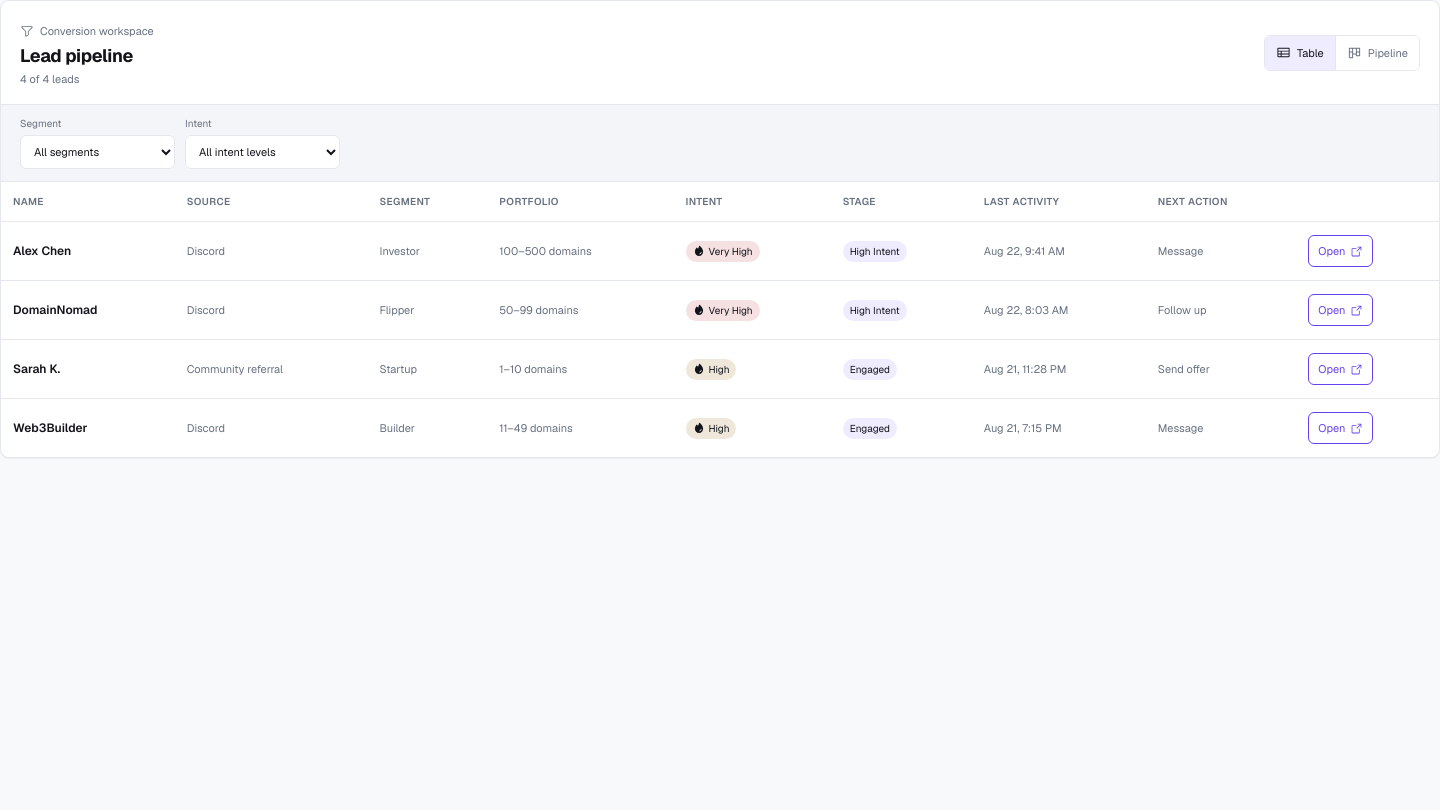
Test: completes Alex Chen follow-up and creates an attributed registration link
Click the button with aria-label "Open Alex Chen".
click(1341, 251)  # box [1308, 235, 1373, 267]
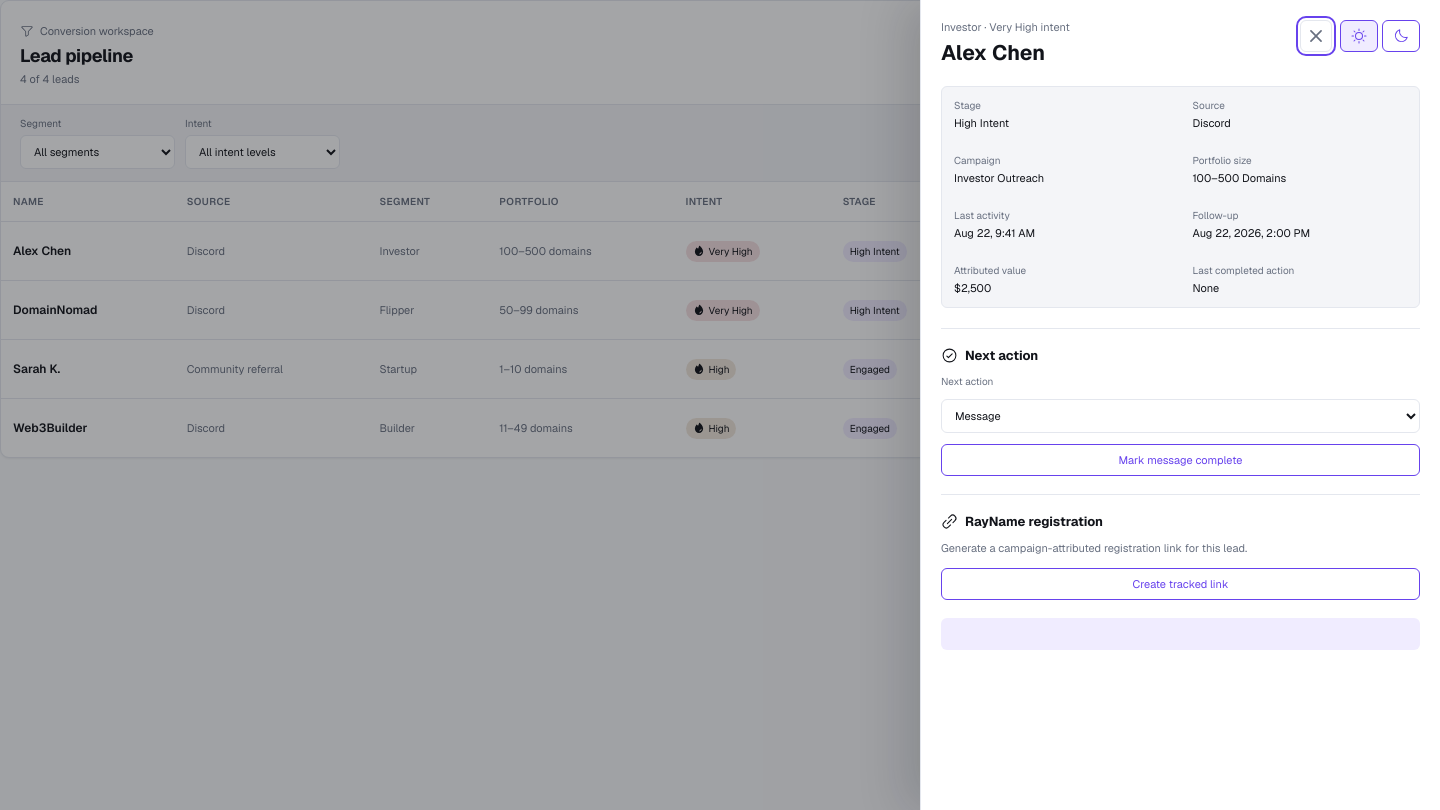
Select "Follow up" in the dropdown labelled "Next action" at [1180, 416], box [941, 399, 1420, 433]
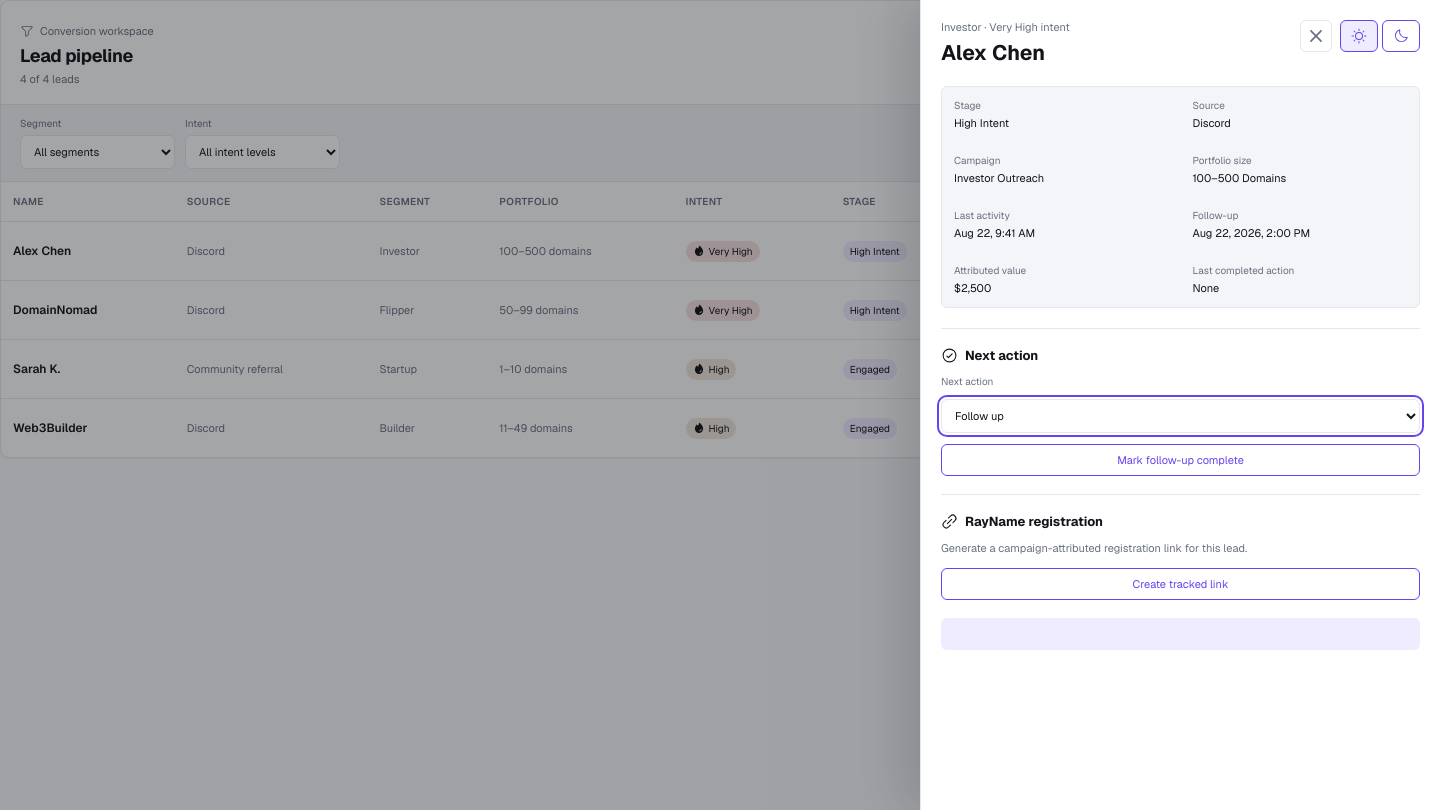
Click the button "Mark follow-up complete".
click(1180, 460)  # box [941, 444, 1420, 476]
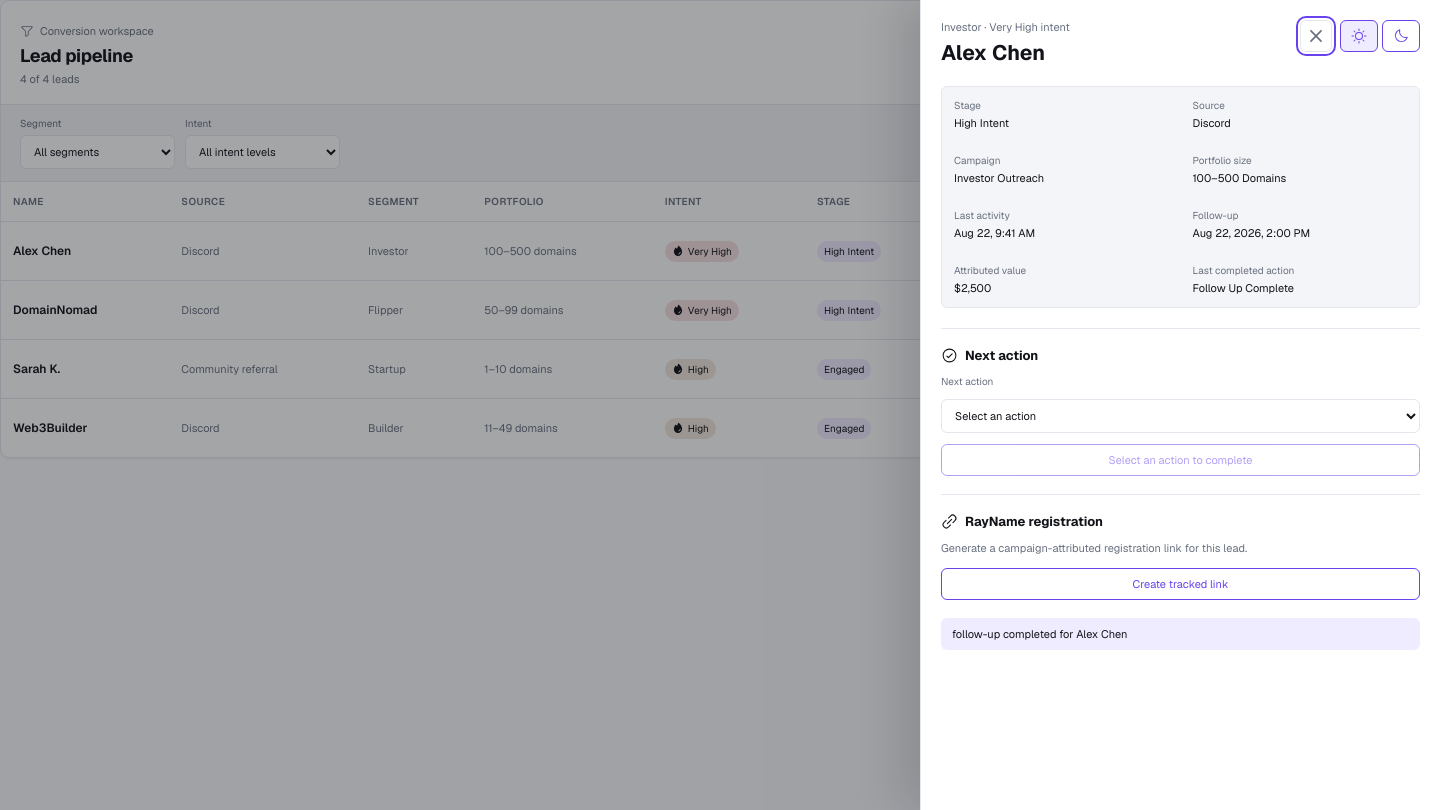
Click the button "Create tracked link".
click(1180, 584)  # box [941, 568, 1420, 600]
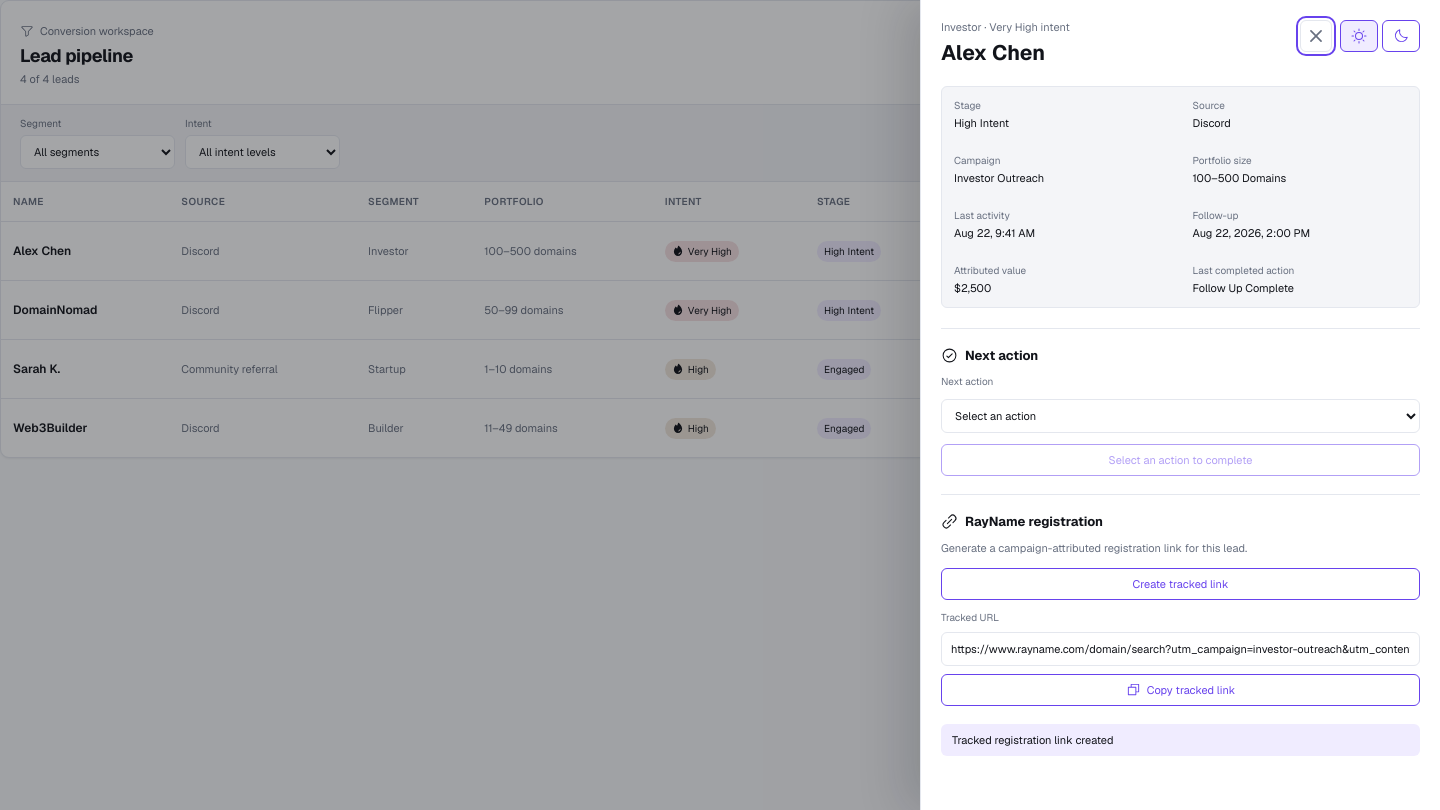
Expected: the field labelled "Tracked URL" holds "https://www.rayname.com/domain/search?utm_campaign=investor-outreach&utm_content=lead-alex-chen&utm_medium=community&utm_source=discord", [941, 632, 1420, 666]
